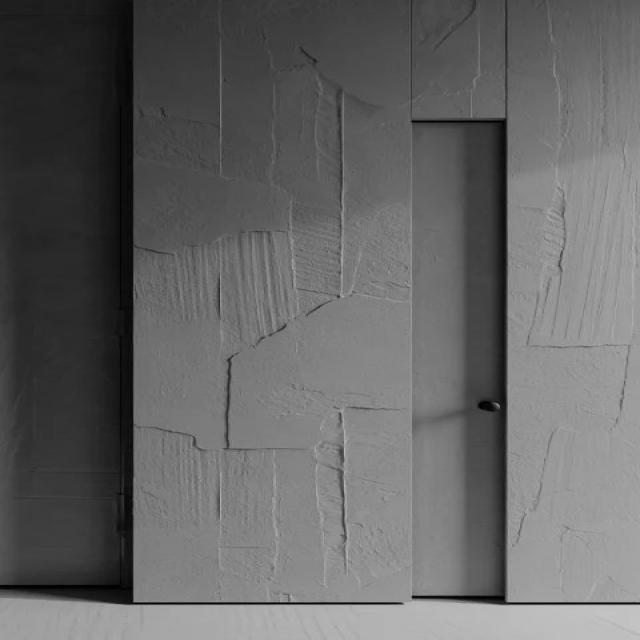trowels marks: (135, 0, 412, 604), (508, 0, 640, 603), (0, 304, 131, 584), (414, 0, 506, 117)
